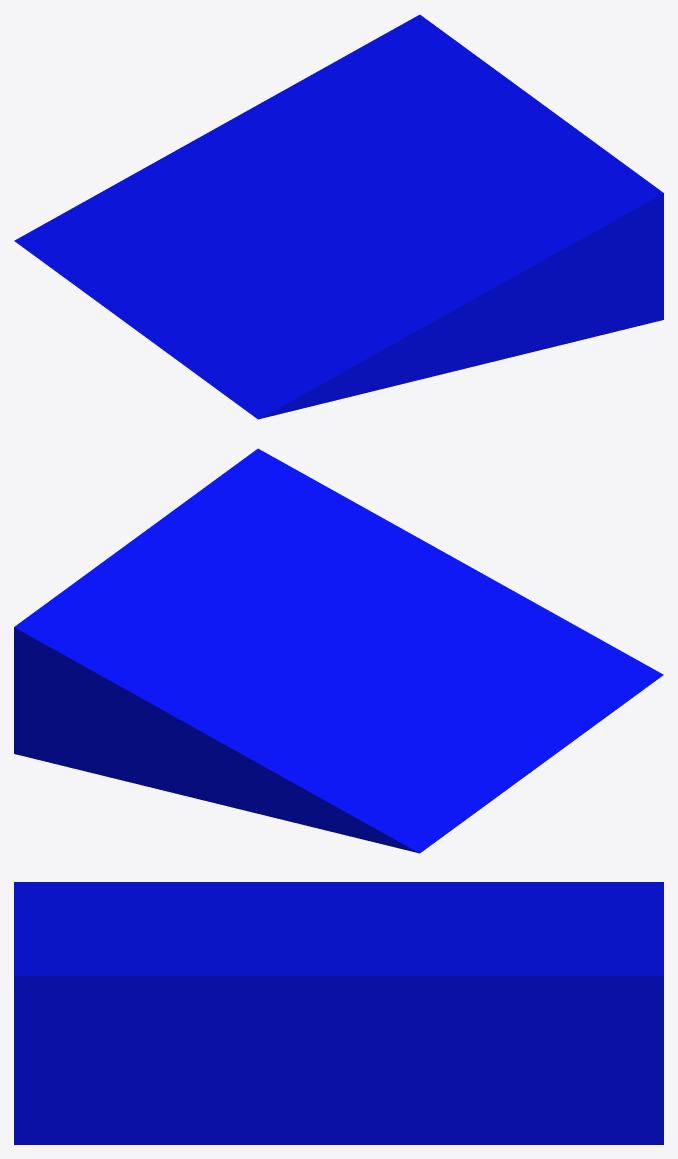
File: WedgeMiddle.FBX
The picture shows the model from 3 angles, top to bottom: view 1: azimuth 30°, elevation 25°; view 2: azimuth 150°, elevation 25°; view 3: azimuth 270°, elevation 25°; orthographic projection. The views are drawn at different scales.
Visible parts, largest first — view 1: Box002; view 2: Box002; view 3: Box002.
Part boxes in pixels (x1,y1,x2,y2): Box002: (14,14,663,419); Box002: (14,448,663,853); Box002: (14,882,663,1144).
Bounding box in the file's own units: 940 × 282 × 979.
